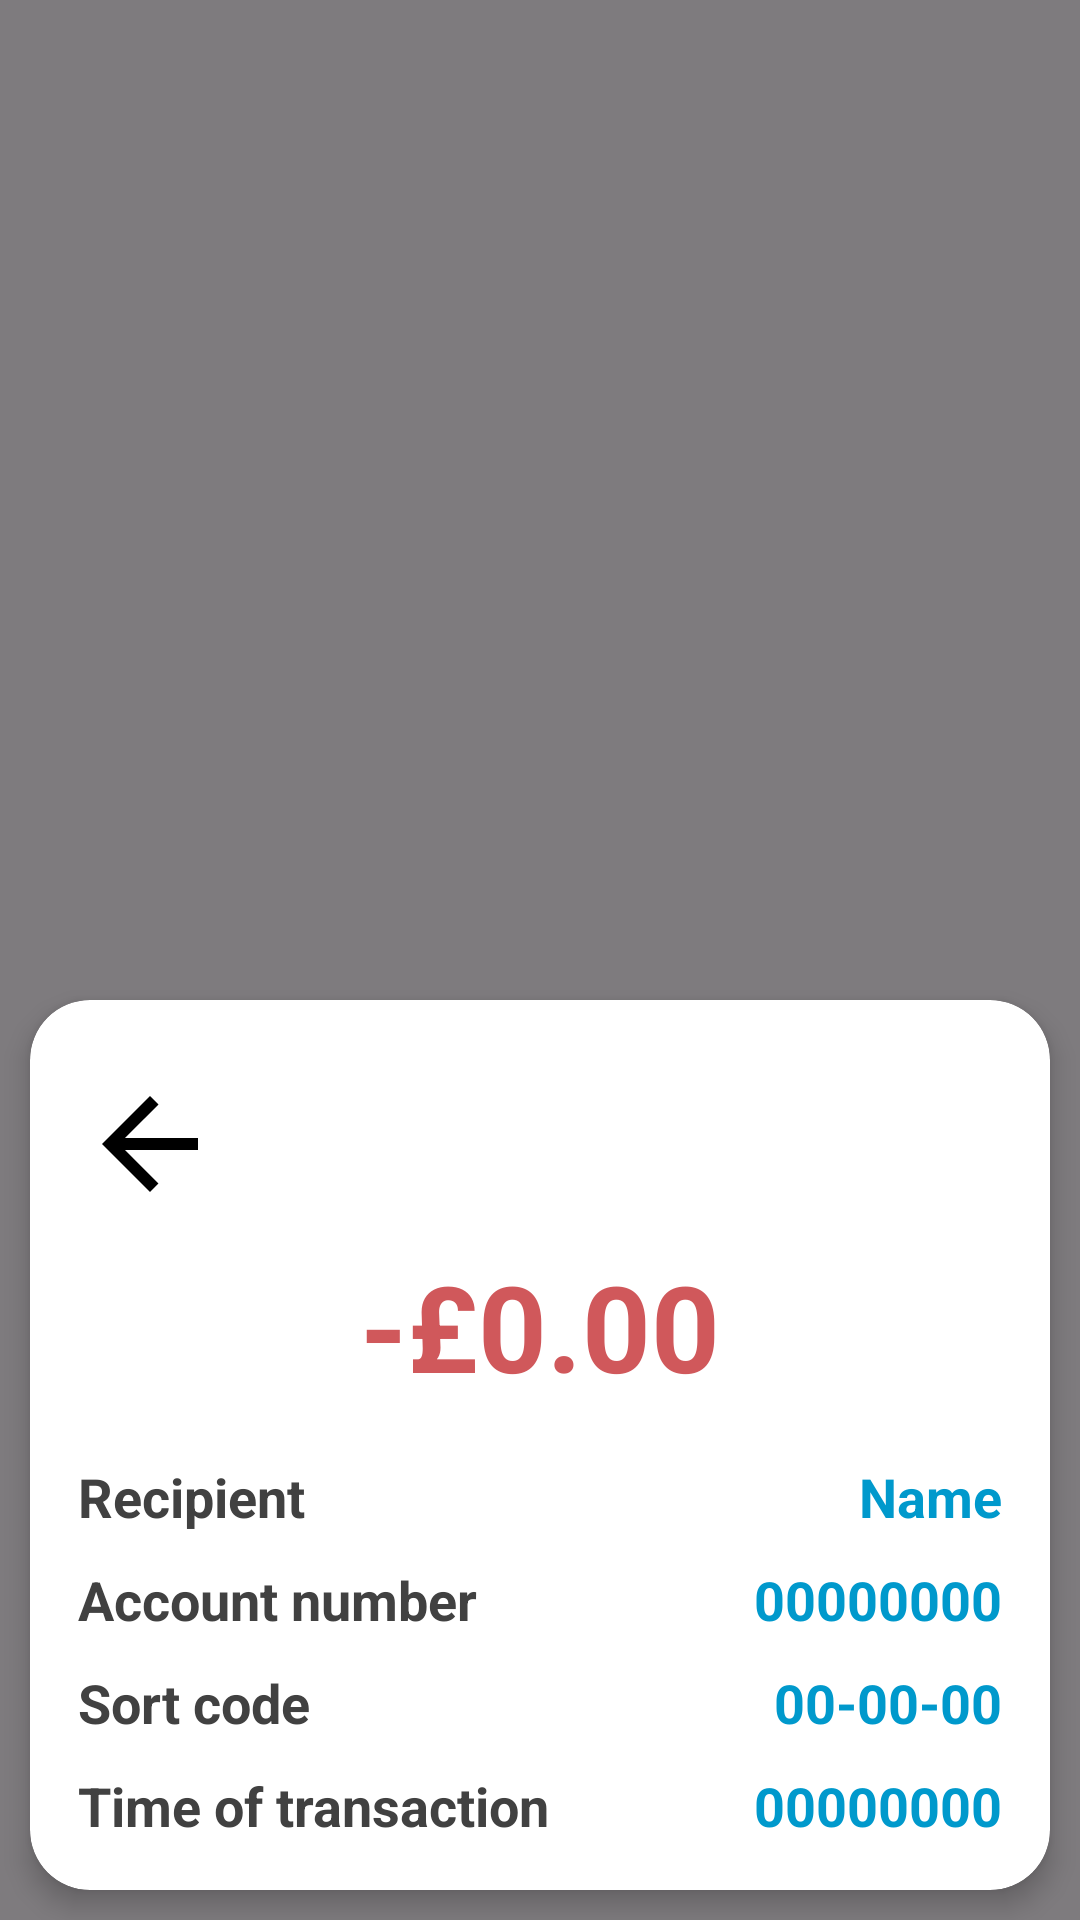

Icons on this 1080 x 1920 Android screen, each with its box as [x1, y1, x2, y2]:
arrow back: [102, 1096, 198, 1192]
